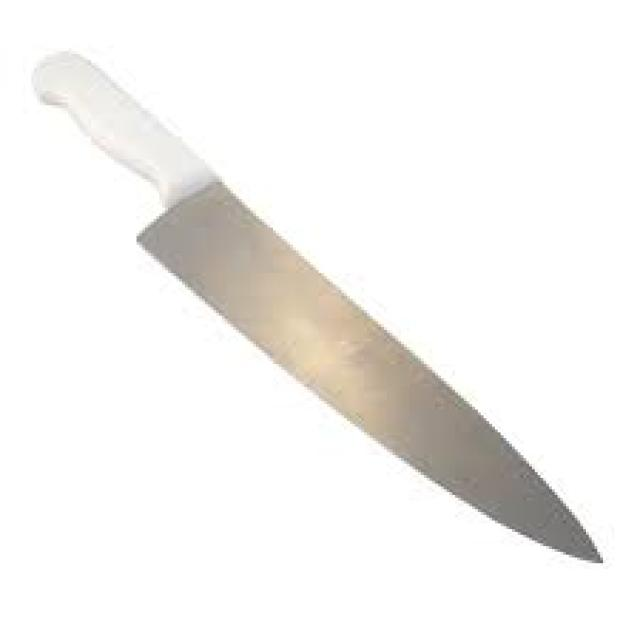Knife: (28, 46, 603, 563)
